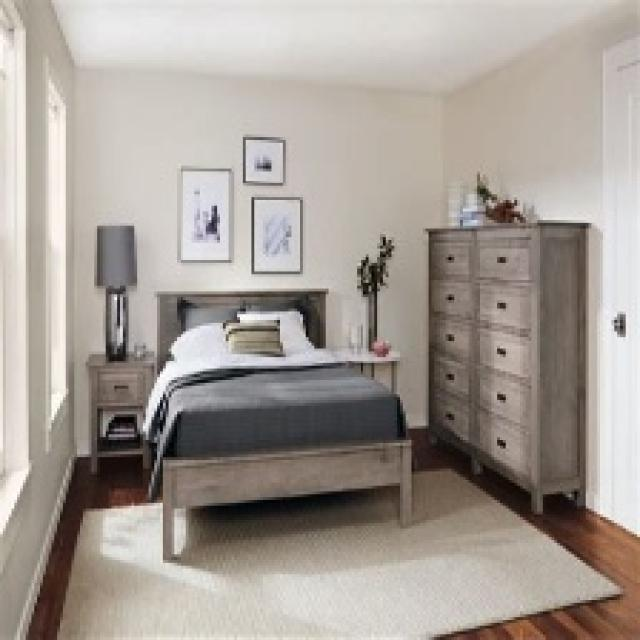Bed: (140, 286, 411, 560)
